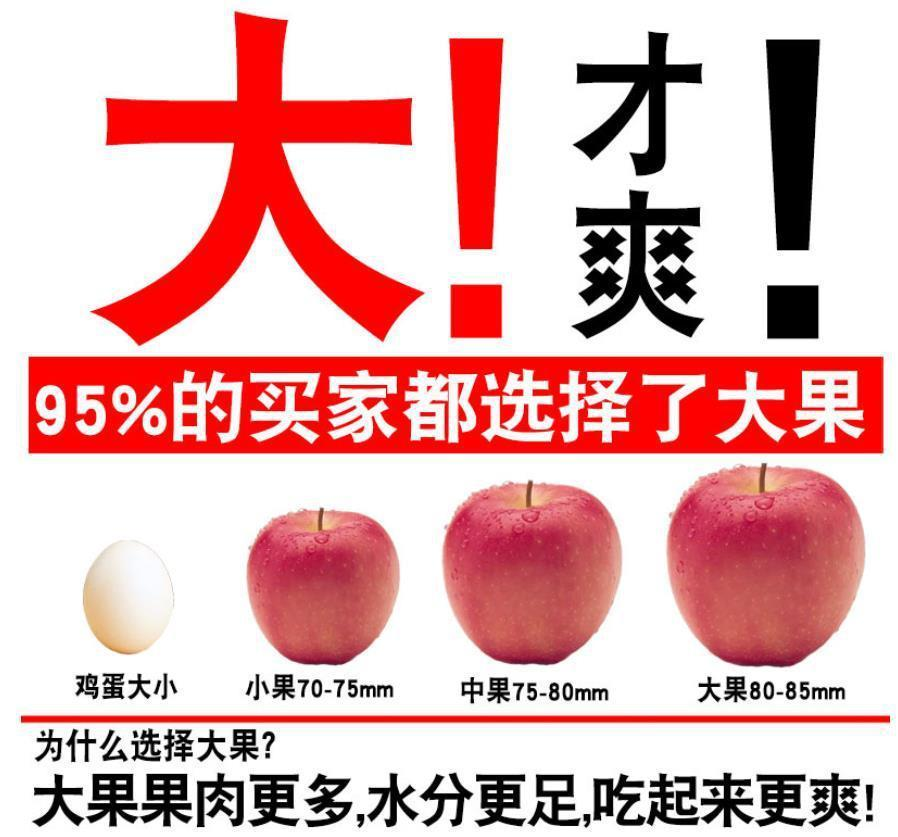apple: (663, 464, 870, 665), (438, 478, 626, 662), (243, 503, 401, 663)
